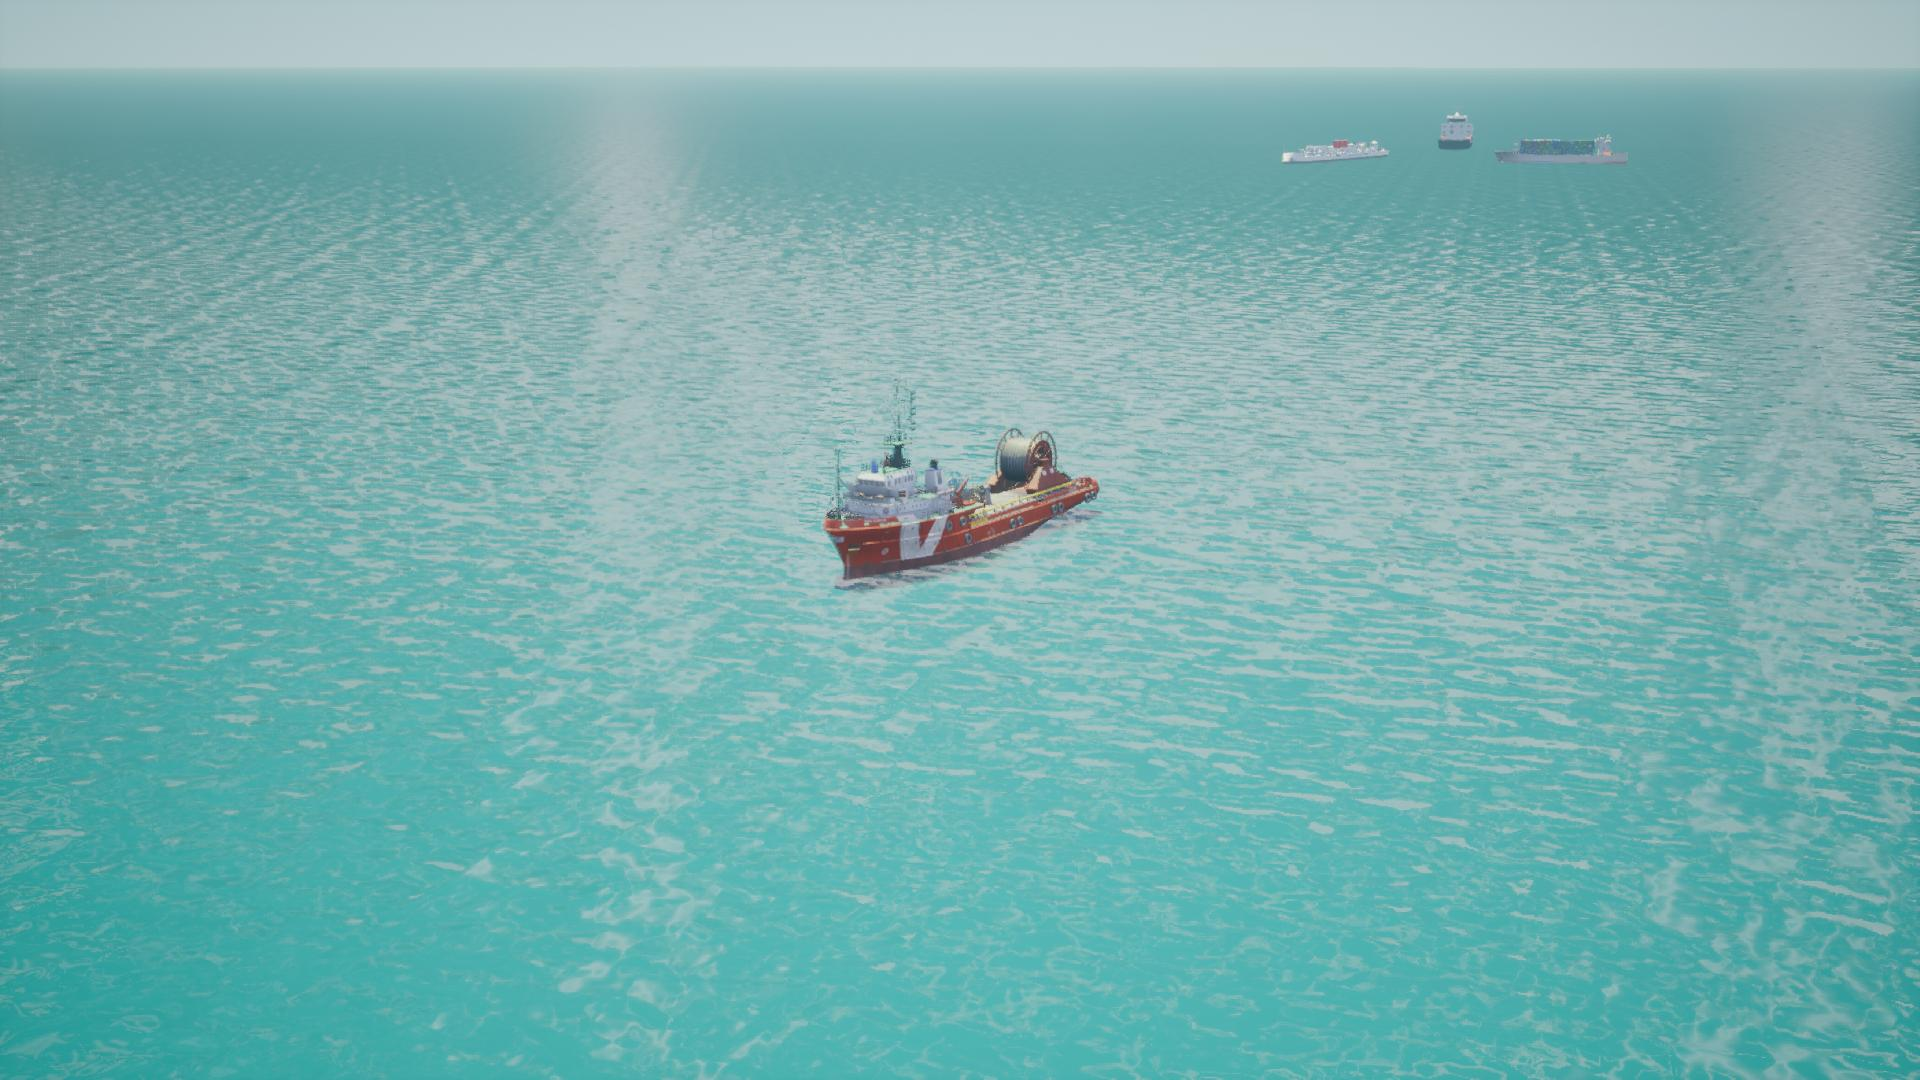Tug Boat: (822, 400, 1098, 583)
